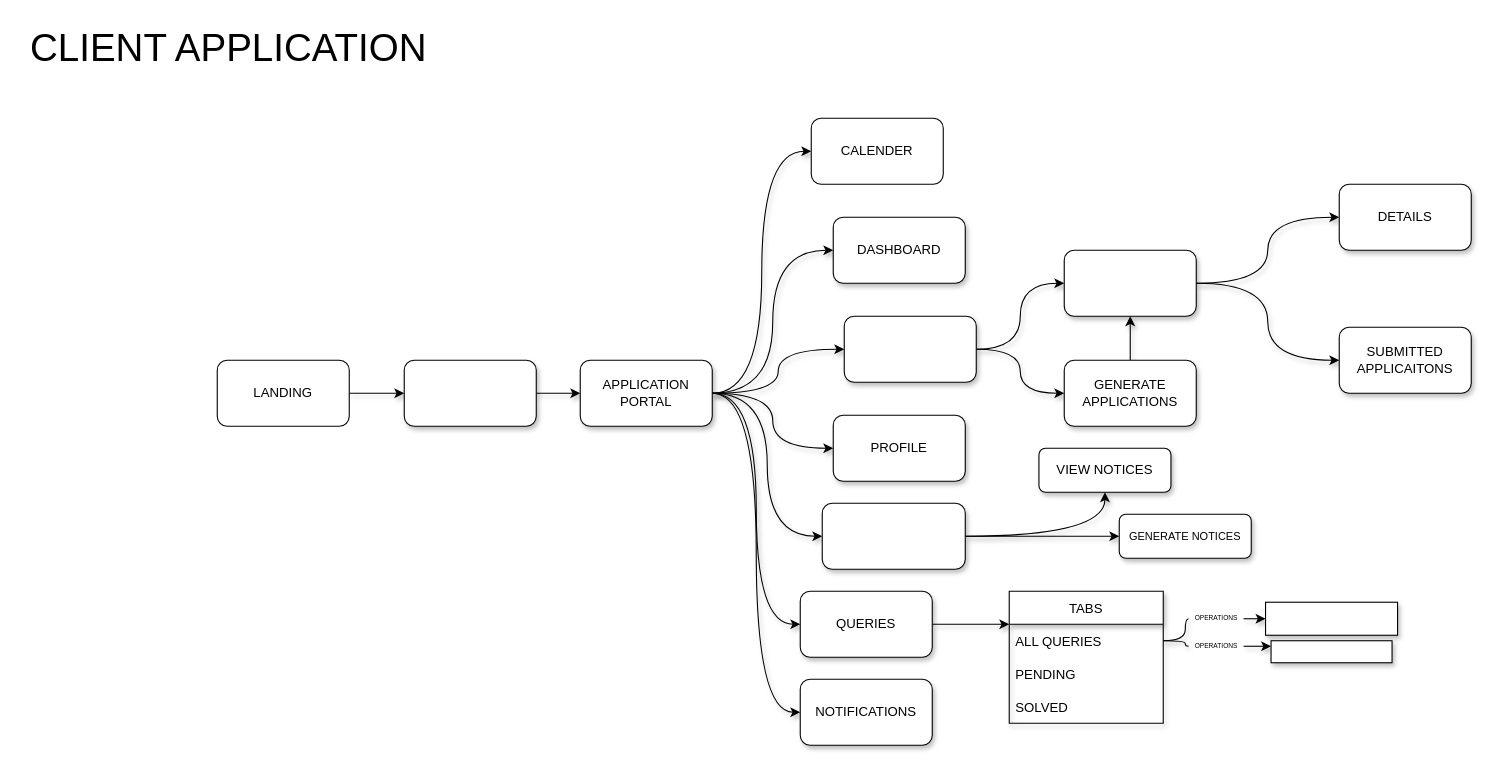
The diagram is 1497 pixels wide and 772 high, and some of its shapes have lost their labels. Each missing label, with the centre of its shape:
"APPLICATIONS" goes at pixel 911 350.
"DELETE" goes at pixel 1332 652.
"LOGIN" goes at pixel 471 394.
"NOTICES" goes at pixel 894 537.
"REPLY" goes at pixel 1332 620.
"VIEW APPLICATIONS" goes at pixel 1131 284.
